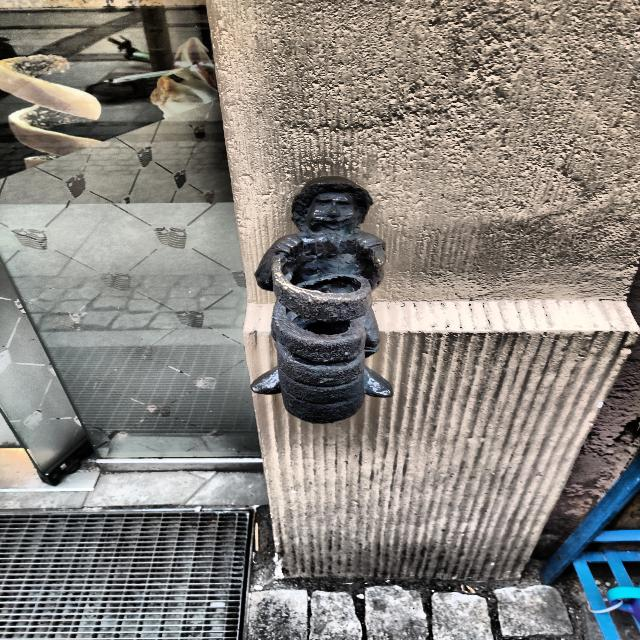Czimnejek: (252, 176, 393, 424)
